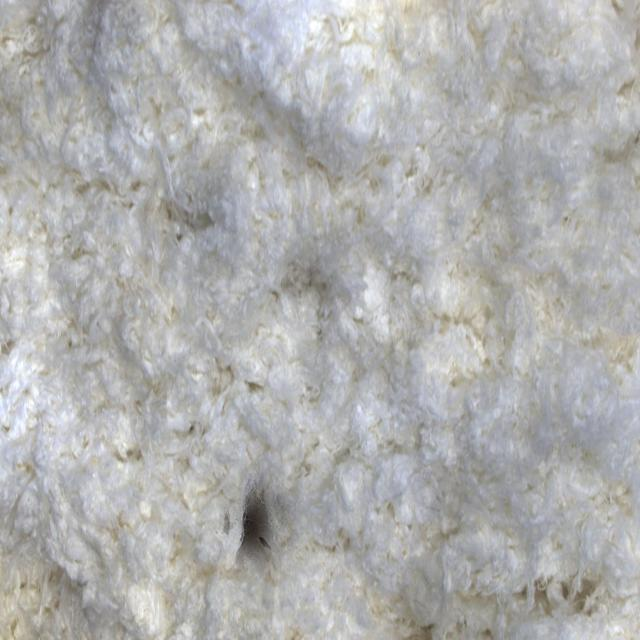dust: (203, 453, 317, 594)
